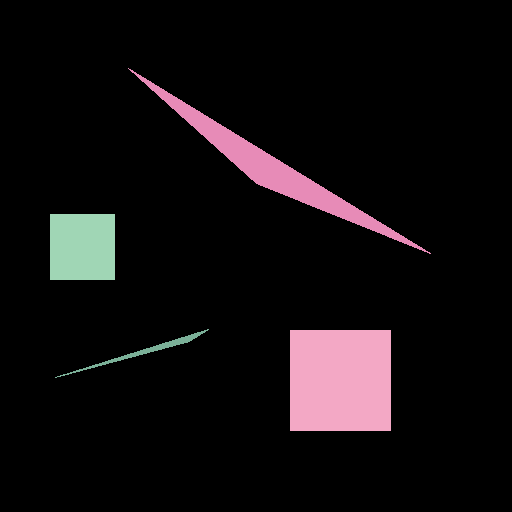square: (290, 330, 390, 430), (50, 214, 114, 279)
triangle: (128, 68, 430, 253)
